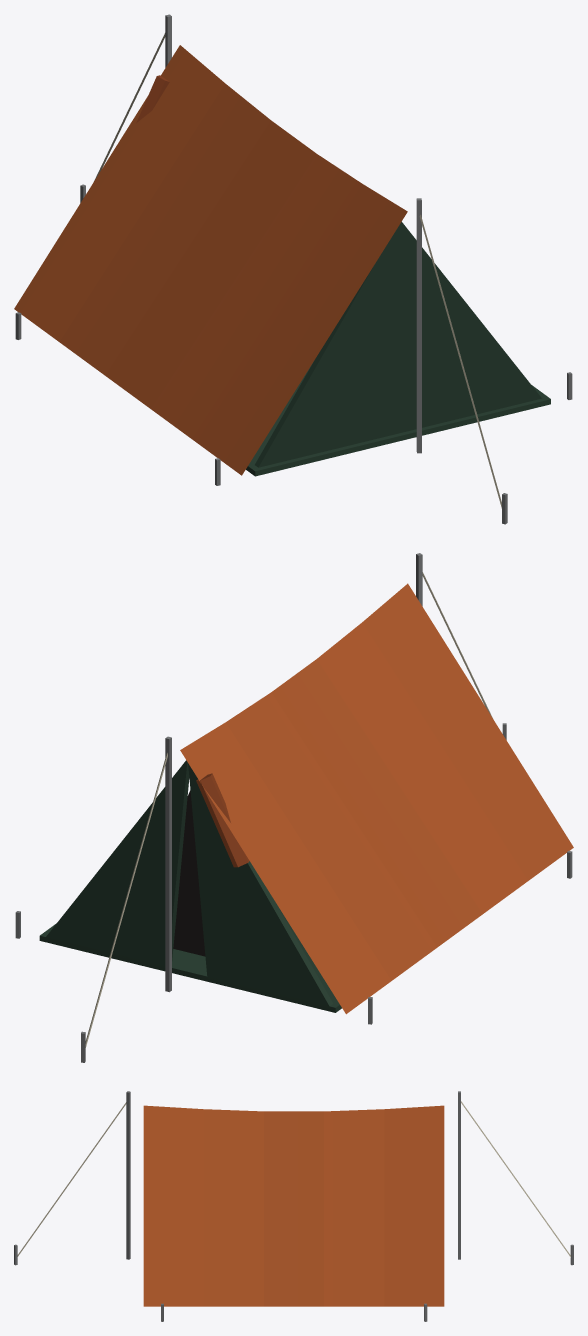
File: tent.glb
3 renders of one model, top to bottom at view 1: azimuth 30°, elevation 25°; view 2: azimuth 150°, elevation 25°; view 3: azimuth 270°, elevation 25°, orthographic. The views are drawn at different scales.
Visible parts, largest first — view 1: tent; view 2: tent; view 3: tent.
Part boxes in pixels (left/top/right/bottom): tent: left=14, top=14, right=572, bottom=524; tent: left=15, top=553, right=573, bottom=1062; tent: left=14, top=1091, right=573, bottom=1321.
Size of the model in its own units: 2.17 by 1.52 by 4.47.
